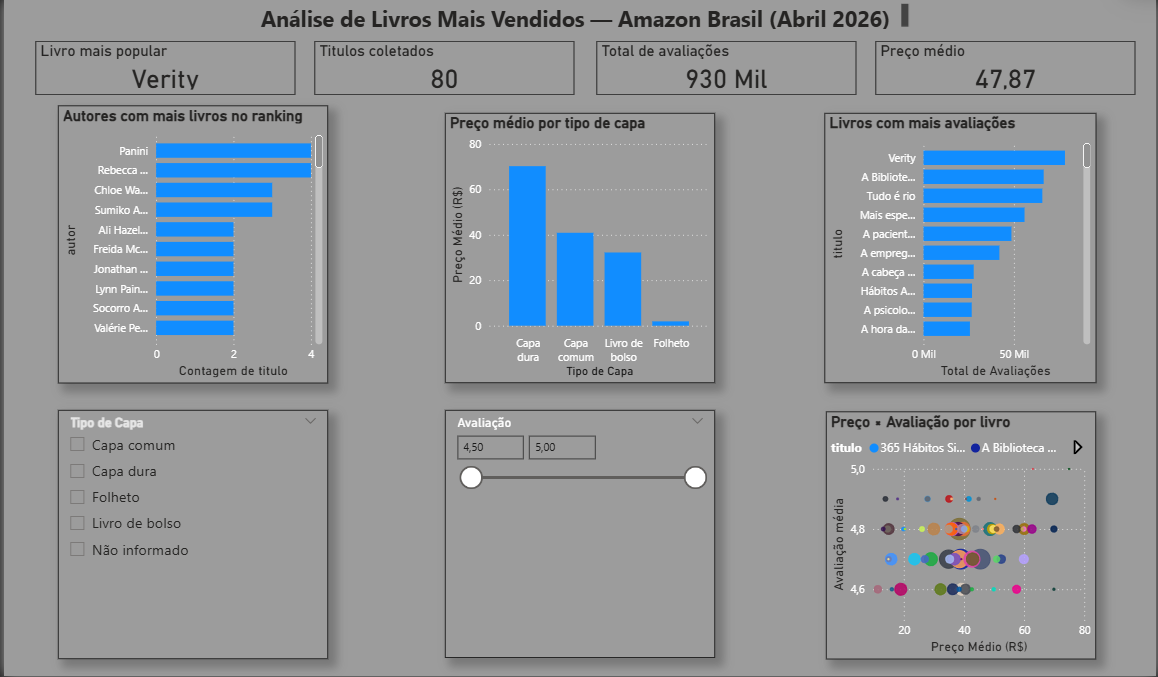

The page's visual inventory and layout, read from the dashboard file:
{"tool":"powerbi","page":{"name":"Página 1","canvas":[1280,752],"ordinal":0},"visuals":[{"type":"clusteredBarChart","title":"Autores com mais livros no ranking","fields":{"Category":["livros_amazon - livros_amazon.autor"],"Y":["CountNonNull(livros_amazon - livros_amazon.titulo)"]},"box":[60,118.3,300,308.3],"z":0},{"type":"clusteredColumnChart","title":"Preço médio por tipo de capa","fields":{"Category":["livros_amazon - livros_amazon.tipo_capa"],"Y":["Avg(livros_amazon - livros_amazon.preco_brl)"]},"box":[490,126.7,300,300],"z":1000},{"type":"clusteredBarChart","title":"Livros com mais avaliações","fields":{"Category":["livros_amazon - livros_amazon.titulo"],"Y":["Sum(livros_amazon - livros_amazon.num_avaliacoes)"]},"box":[911.7,126.7,301.7,300],"z":2000},{"type":"scatterChart","title":"Preço × Avaliação por livro","fields":{"X":["Avg(livros_amazon - livros_amazon.preco_brl)"],"Y":["Avg(livros_amazon - livros_amazon.avaliacao)"],"Size":["Sum(livros_amazon - livros_amazon.num_avaliacoes)"],"Series":["livros_amazon - livros_amazon.titulo"]},"box":[913.3,458.3,300,275],"z":3000},{"type":"slicer","fields":{"Values":["livros_amazon - livros_amazon.tipo_capa"]},"box":[60,456.7,300,276.7],"z":4000},{"type":"slicer","fields":{"Values":["livros_amazon - livros_amazon.avaliacao"]},"box":[490,456.7,300,275],"z":5000},{"type":"textbox","box":[268.3,0,741.7,38.3],"z":6000},{"type":"card","title":"Total de avaliações","fields":{"Values":["Sum(livros_amazon - livros_amazon.num_avaliacoes)"]},"box":[658.3,46.7,288.3,60],"z":6004},{"type":"card","title":"Preço médio","fields":{"Values":["Avg(livros_amazon - livros_amazon.preco_brl)"]},"box":[968.3,46.7,288.3,60],"z":6005},{"type":"card","title":"Titulos coletados","fields":{"Values":["CountNonNull(livros_amazon - livros_amazon.titulo)"]},"box":[345,46.7,288.3,60],"z":6006},{"type":"card","title":"Livro mais popular","fields":{"Values":["Min(livros_amazon - livros_amazon.titulo)"]},"box":[35,46.7,288.3,60],"z":6007}]}

Visuals, with their boxes in screenshot pixels (x1, y1, x2, y2), scaled from the page's 1280x752 canvas onto the 1158x677 screenshot:
"Autores com mais livros no ranking" clusteredBarChart: select_region(54, 107, 326, 384)
"Preço médio por tipo de capa" clusteredColumnChart: select_region(443, 114, 715, 384)
"Livros com mais avaliações" clusteredBarChart: select_region(825, 114, 1098, 384)
"Preço × Avaliação por livro" scatterChart: select_region(826, 413, 1098, 660)
slicer - livros_amazon - livros_amazon.tipo_capa: select_region(54, 411, 326, 660)
slicer - livros_amazon - livros_amazon.avaliacao: select_region(443, 411, 715, 659)
textbox: select_region(243, 0, 914, 34)
"Total de avaliações" card: select_region(596, 42, 856, 96)
"Preço médio" card: select_region(876, 42, 1137, 96)
"Titulos coletados" card: select_region(312, 42, 573, 96)
"Livro mais popular" card: select_region(32, 42, 292, 96)
